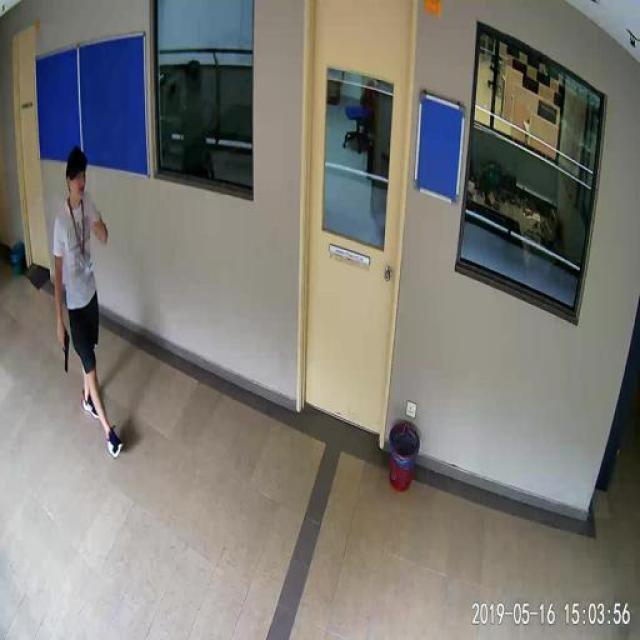weapon: (62, 332, 72, 374)
